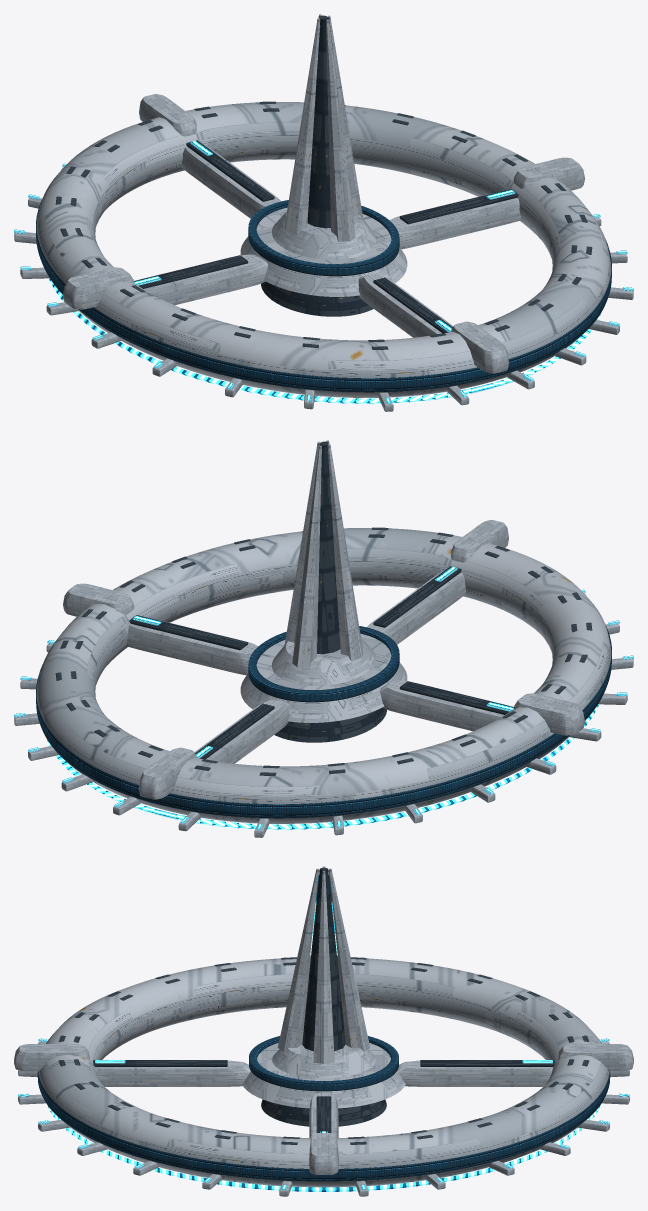
File: alliance_starbase_recreated.glb
The picture shows the model from 3 angles, top to bottom: view 1: azimuth 30°, elevation 25°; view 2: azimuth 150°, elevation 25°; view 3: azimuth 270°, elevation 25°; orthographic projection. The views are drawn at different scales.
Parts seen in each view (by area): view 1: alliance_starbase_recreated; view 2: alliance_starbase_recreated; view 3: alliance_starbase_recreated.
Boxes of the visible parts, x1=… form: alliance_starbase_recreated: x1=14, y1=14, x2=633, y2=411; alliance_starbase_recreated: x1=14, y1=440, x2=633, y2=837; alliance_starbase_recreated: x1=14, y1=866, x2=633, y2=1196.
Bounding box in the file's own units: 28.46 × 14.33 × 34.08.
1 material, 1 textured.
